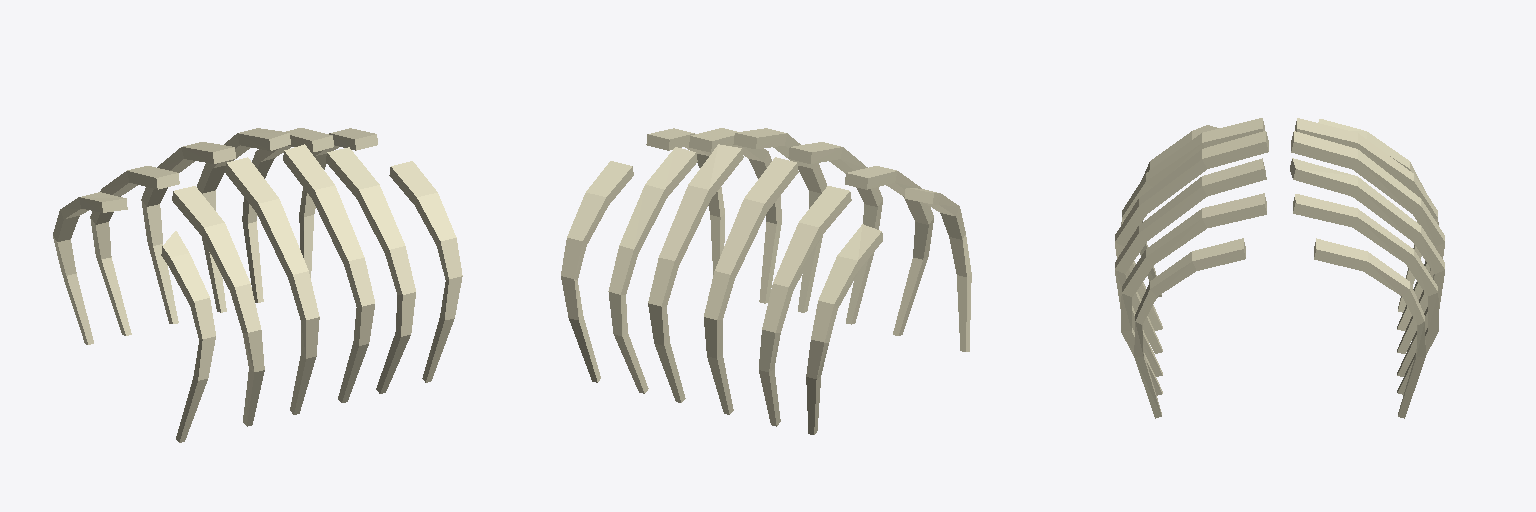
File: carcass.obj
The picture shows the model from 3 angles: view 1: azimuth 30°, elevation 25°; view 2: azimuth 150°, elevation 25°; view 3: azimuth 270°, elevation 25°; orthographic projection.
Bounding box in the file's own units: 4.92 × 3.63 × 5.06.